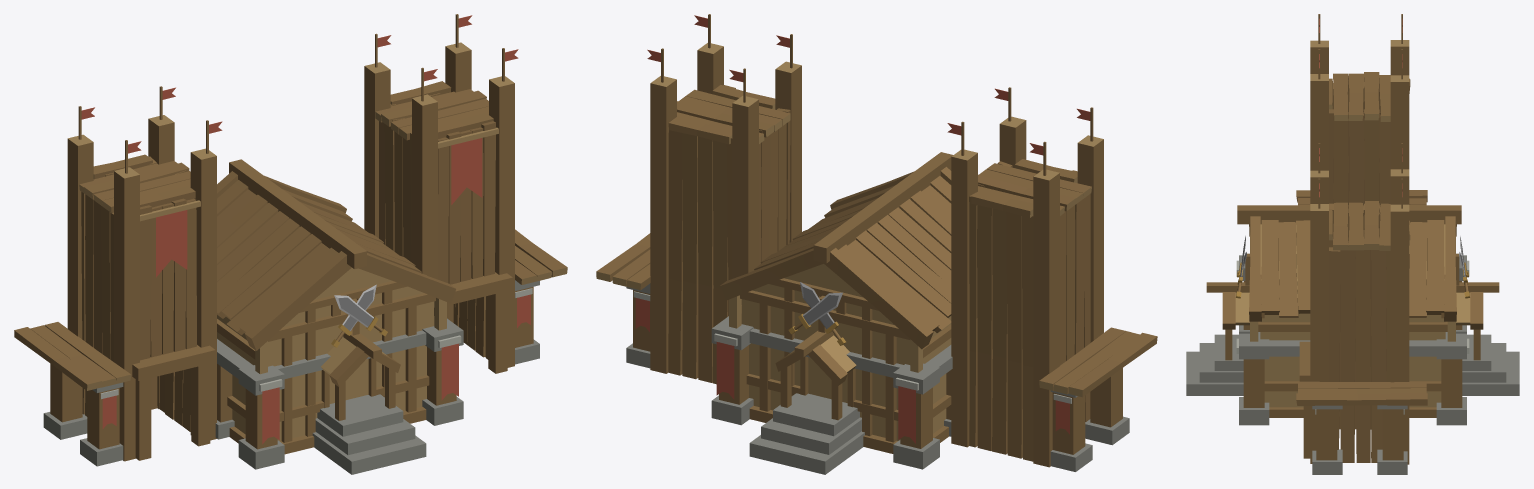
Rendered from Barracks-puD1kbV4kf.glb.
3 renders of one model, left to right at view 1: azimuth 30°, elevation 25°; view 2: azimuth 150°, elevation 25°; view 3: azimuth 270°, elevation 25°, orthographic. The views are drawn at different scales.
Parts seen in each view (by area): view 1: Barracks_FirstAge_Level3; view 2: Barracks_FirstAge_Level3; view 3: Barracks_FirstAge_Level3.
Part boxes in pixels (x1,y1,x2,y2): Barracks_FirstAge_Level3: (14, 14, 567, 474); Barracks_FirstAge_Level3: (596, 14, 1157, 474); Barracks_FirstAge_Level3: (1186, 14, 1519, 474).
Bounding box in the file's own units: 2.33 × 1.47 × 1.57.
